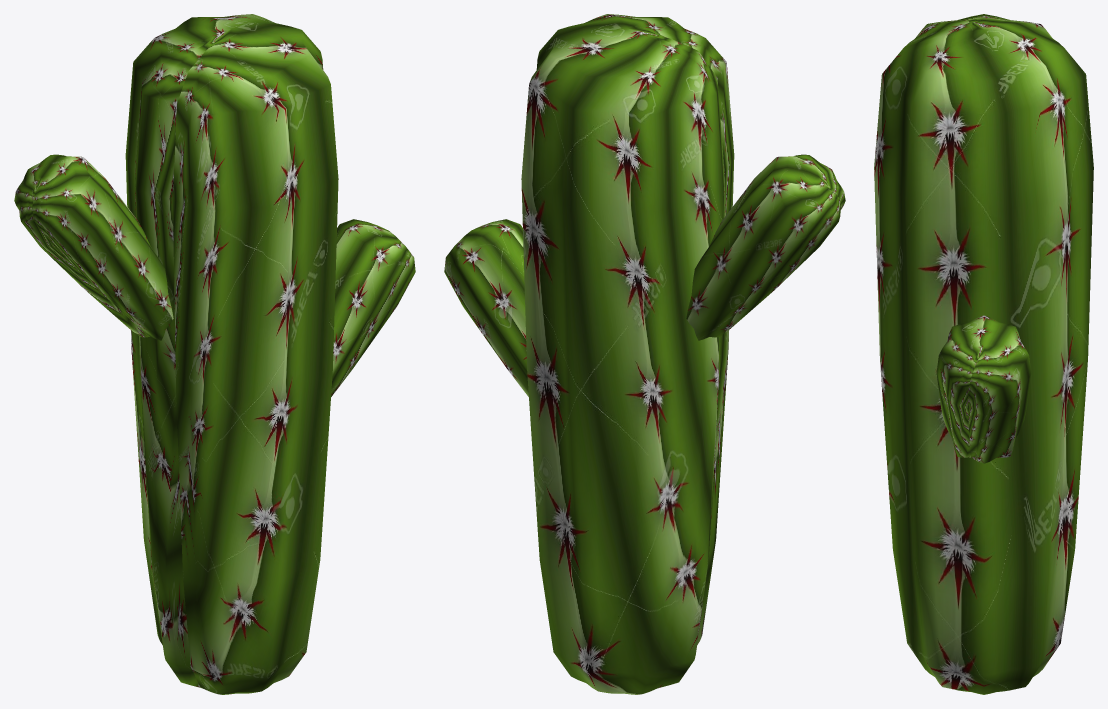
File: CactusFixed.fbx
The picture shows the model from 3 angles, left to right: view 1: azimuth 30°, elevation 25°; view 2: azimuth 150°, elevation 25°; view 3: azimuth 270°, elevation 25°; orthographic projection.
Parts seen in each view (by area): view 1: Circle.002, Circle.001, Circle.003; view 2: Circle.002, Circle.001, Circle.003; view 3: Circle.002, Circle.003.
Boxes of the visible parts, <box> form: Circle.002: <box>125,14,338,694</box>; Circle.001: <box>14,154,173,340</box>; Circle.003: <box>331,219,415,396</box>; Circle.002: <box>521,14,734,694</box>; Circle.001: <box>686,154,845,340</box>; Circle.003: <box>444,219,528,396</box>; Circle.002: <box>874,14,1093,694</box>; Circle.003: <box>936,315,1031,463</box>.
Size of the model in its own units: 451 by 733 by 222.
